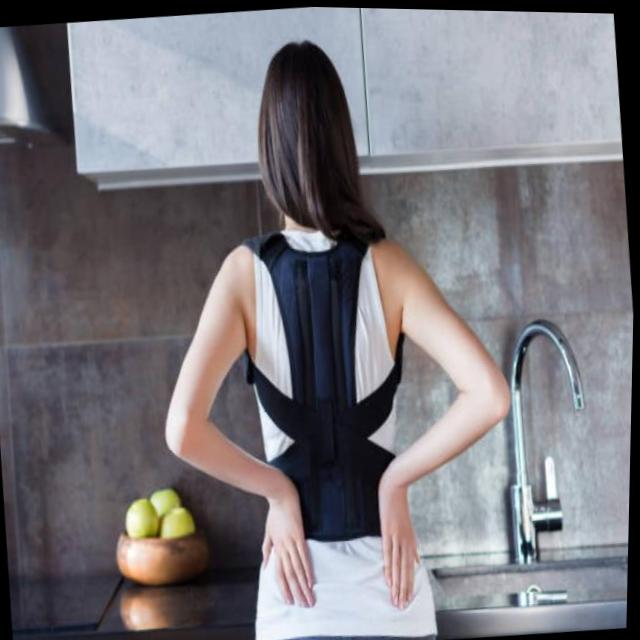no helmet: (233, 22, 392, 266)
